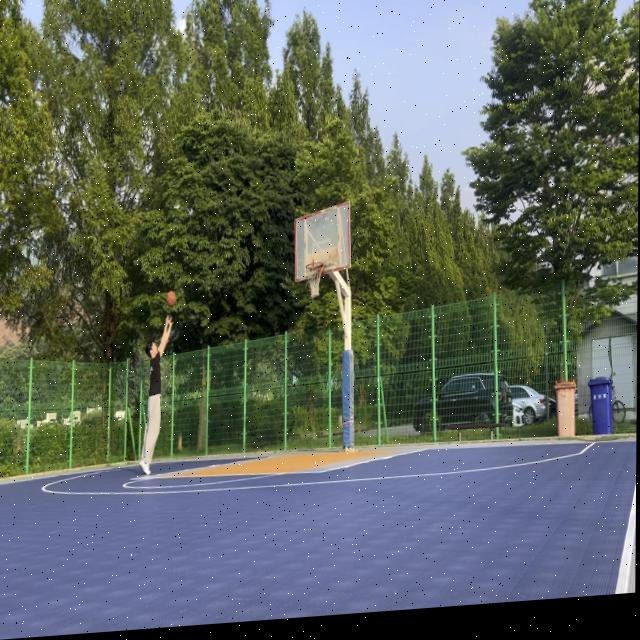basketball: (166, 289, 177, 308)
hoop: (305, 261, 324, 300)
